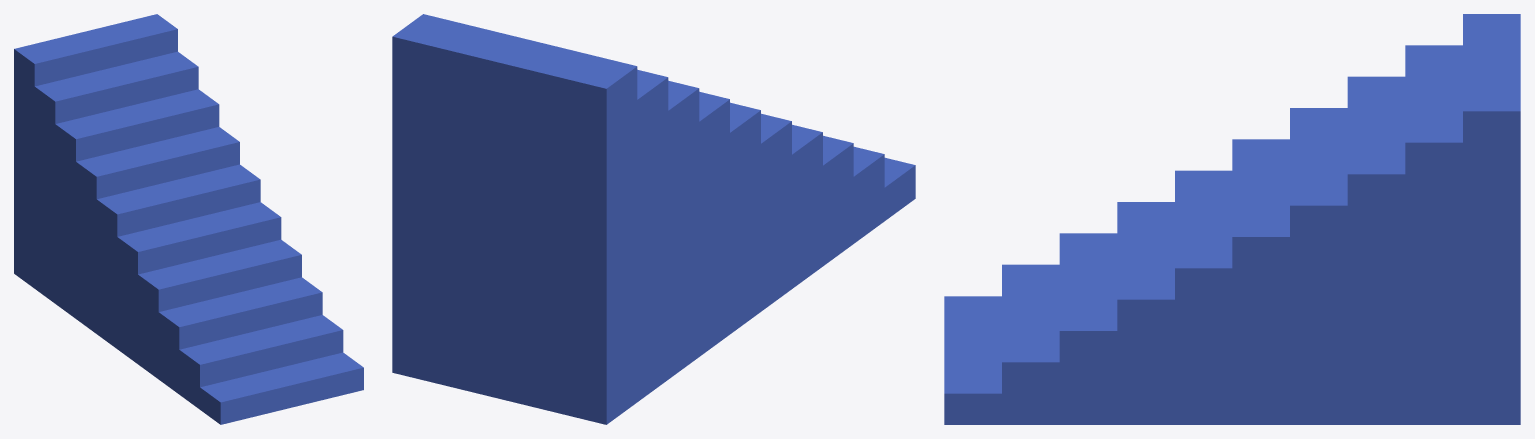
Rendered from Stairs.fbx.
The picture shows the model from 3 angles, left to right: view 1: azimuth 30°, elevation 25°; view 2: azimuth 150°, elevation 25°; view 3: azimuth 270°, elevation 25°; orthographic projection. The views are drawn at different scales.
Parts seen in each view (by area): view 1: Cube; view 2: Cube; view 3: Cube.
Boxes of the visible parts, x1,y1,x2,y2 form: Cube: (14, 14, 363, 424); Cube: (392, 14, 915, 424); Cube: (944, 14, 1520, 424).
Size of what is drawn, in the model's own units: 2 by 3 by 5.
